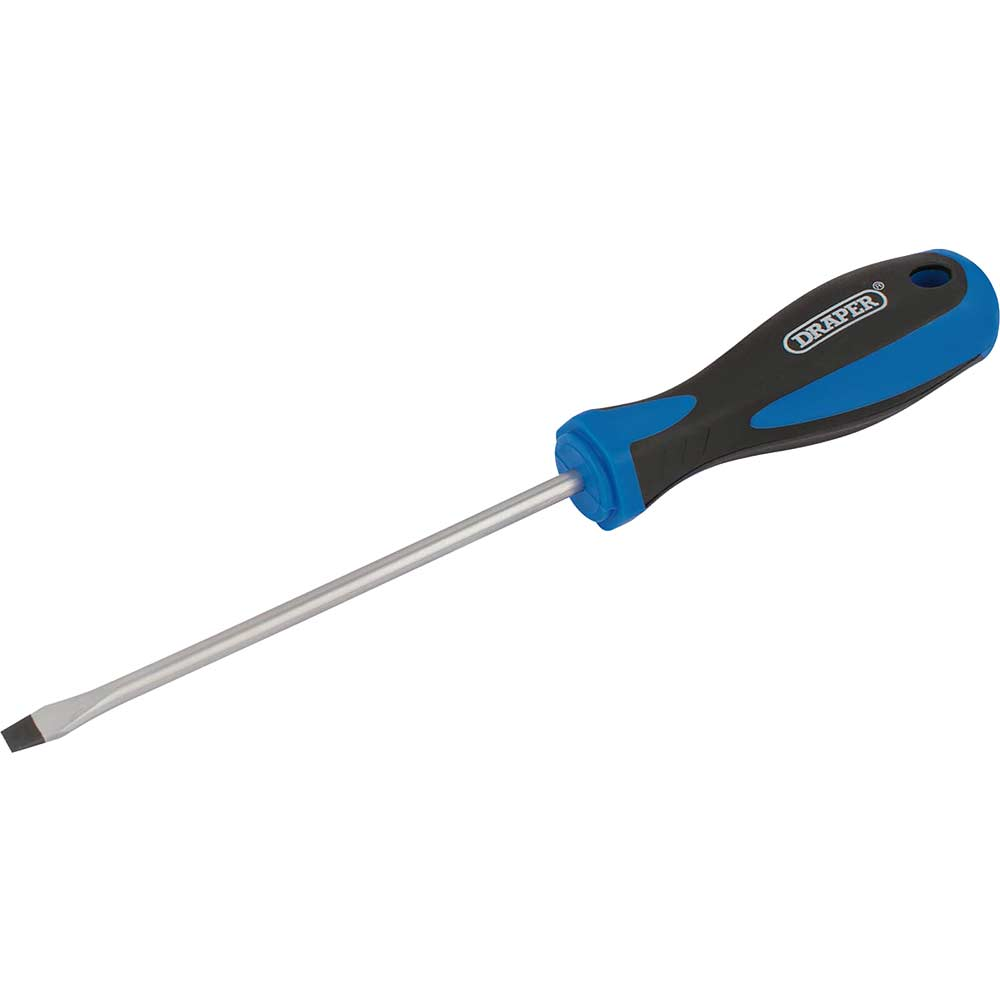screwdriver: (1, 247, 1000, 751)
